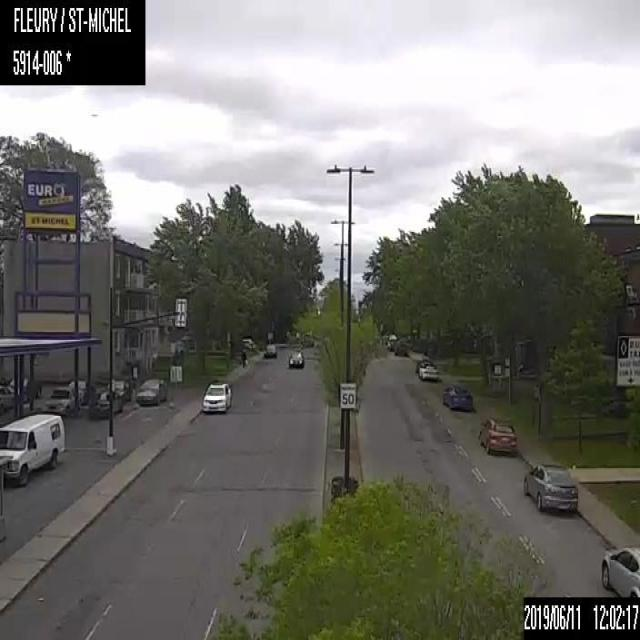pedestrian: (239, 346, 247, 366)
vehicle: (0, 410, 67, 484), (521, 462, 578, 514), (600, 541, 639, 596), (478, 415, 517, 456), (85, 383, 123, 421), (441, 378, 474, 411), (201, 378, 233, 411), (45, 385, 77, 417), (135, 375, 169, 405), (0, 380, 16, 408), (287, 348, 305, 367), (418, 363, 436, 379), (264, 343, 276, 357)
